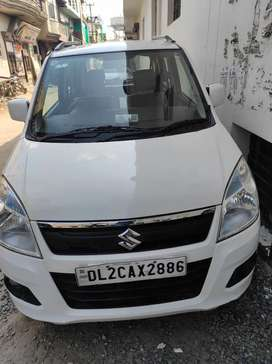DL2CAX2886: (75, 256, 186, 287)
